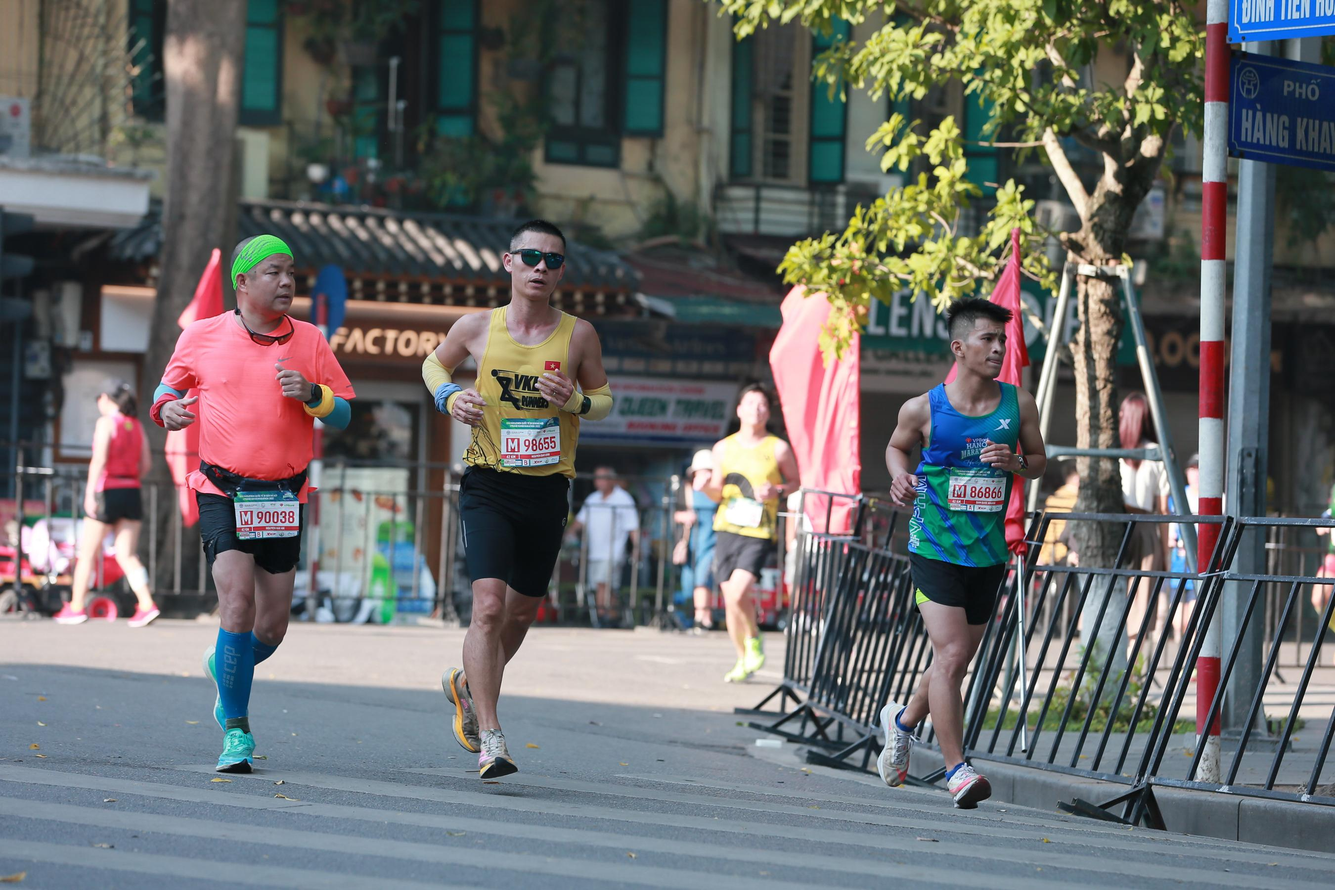bib: (232, 491, 300, 539), (500, 419, 560, 469), (949, 467, 1006, 512), (726, 498, 763, 527)
